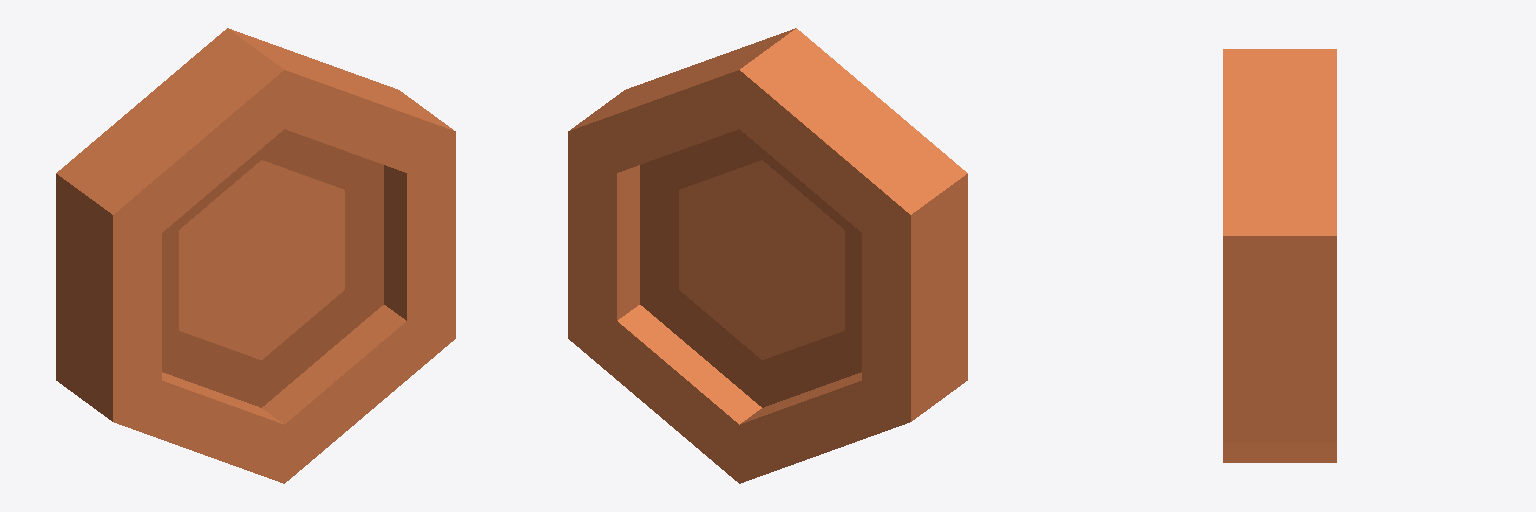
The model's file is BronzeCoin.obj.
3 renders of one model, left to right at view 1: azimuth 30°, elevation 25°; view 2: azimuth 150°, elevation 25°; view 3: azimuth 270°, elevation 25°, orthographic.
Parts seen in each view (by area): view 1: mergedBlocks; view 2: mergedBlocks; view 3: mergedBlocks.
Part boxes in pixels (x1,y1,x2,y2): mergedBlocks: (56,28,455,483); mergedBlocks: (568,28,967,483); mergedBlocks: (1223,49,1336,462).
Bounding box in the file's own units: 0.3464 × 0.4 × 0.1.